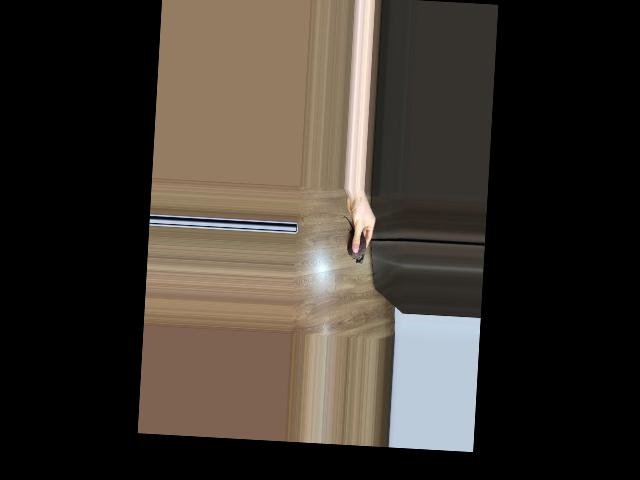beet: (340, 217, 367, 264)
